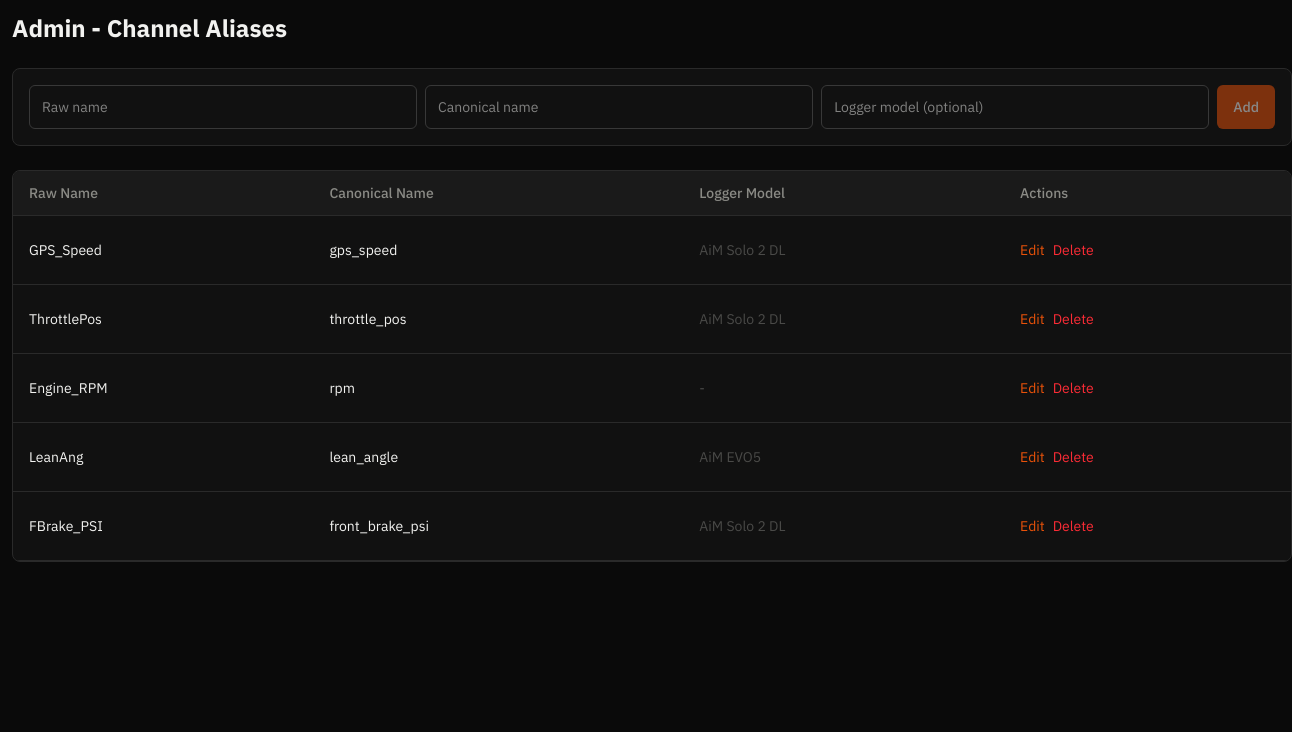
Test: Admin screen › shows delete confirmation on delete click
Click the button with test id "delete-alias-1" at (1073, 250), box left=1053, top=228, right=1094, bottom=272
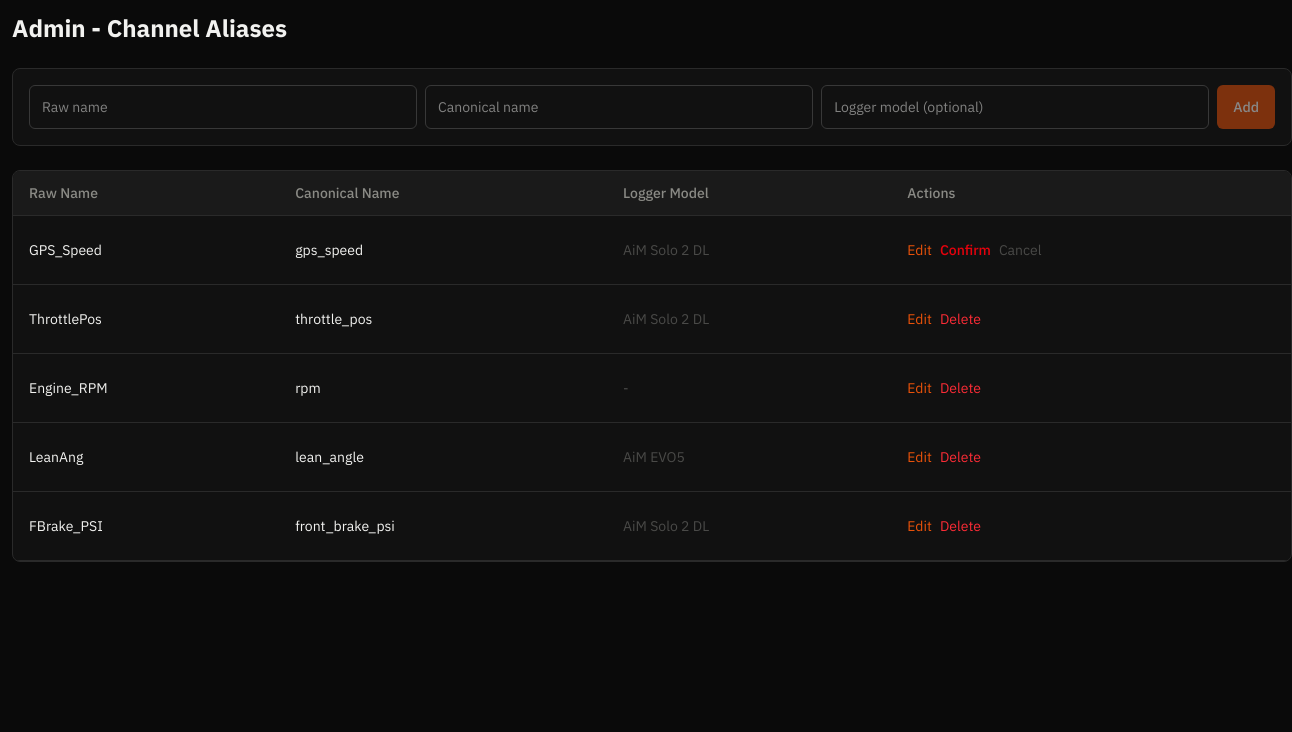
Check: the button with test id "confirm-delete-alias-1" is shown, box left=940, top=228, right=991, bottom=272
